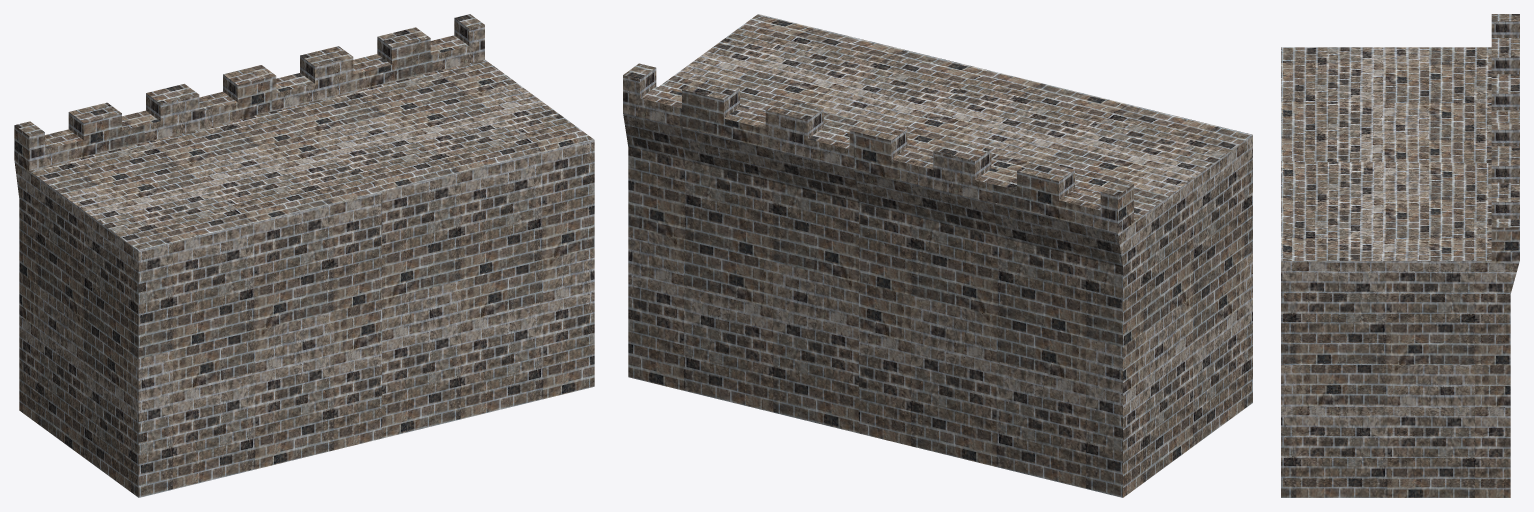
The model's file is Castle Wall One Sided_1.fbx.
3 views of the same model, side by side, from view 1: azimuth 30°, elevation 25°; view 2: azimuth 150°, elevation 25°; view 3: azimuth 270°, elevation 25° (orthographic). The views are drawn at different scales.
Parts seen in each view (by area): view 1: Cube_001; view 2: Cube_001; view 3: Cube_001.
Boxes of the visible parts, box(x1,y1,x2,y2) form: Cube_001: box(14, 14, 594, 497); Cube_001: box(623, 14, 1252, 497); Cube_001: box(1281, 14, 1519, 497).
Size of the model in its own units: 13.73 by 8.11 by 6.49.
